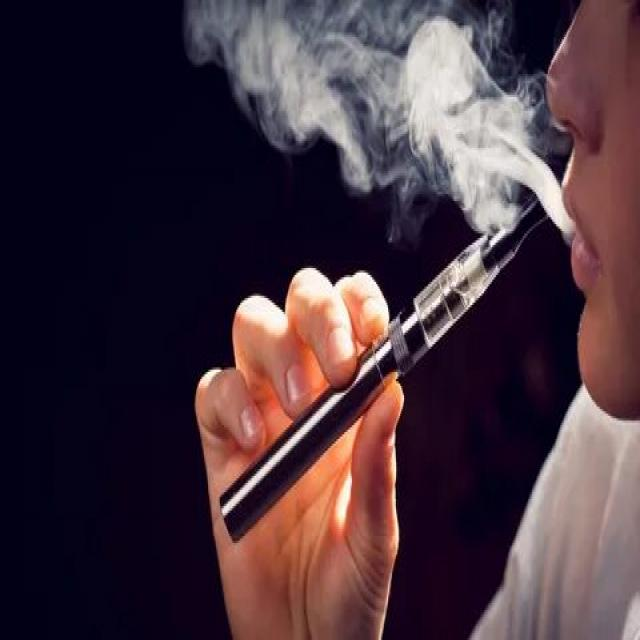smoke: (221, 169, 556, 550)
